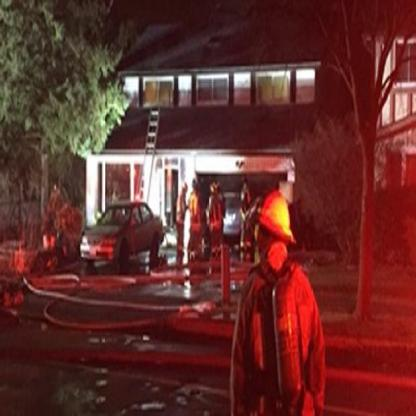other: (263, 192, 294, 243)
